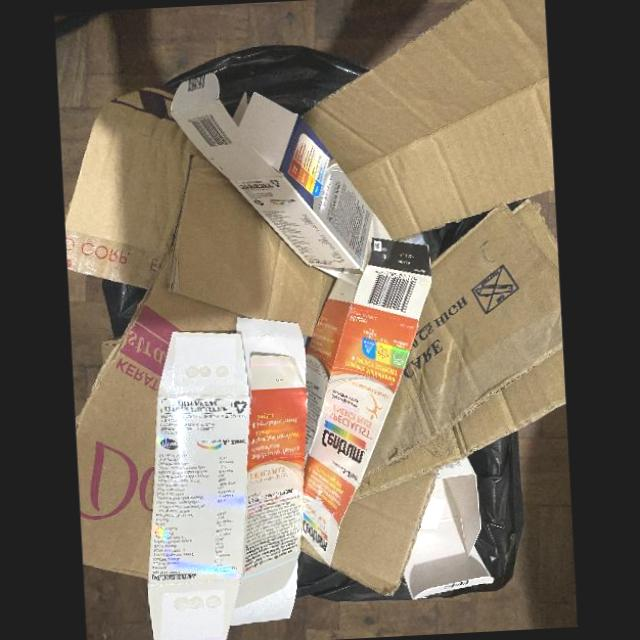carton: (65, 87, 337, 336), (355, 202, 566, 498), (303, 0, 555, 239), (75, 242, 237, 579), (148, 317, 308, 640), (170, 72, 391, 277), (303, 237, 432, 565), (330, 469, 438, 596), (404, 457, 494, 599)
